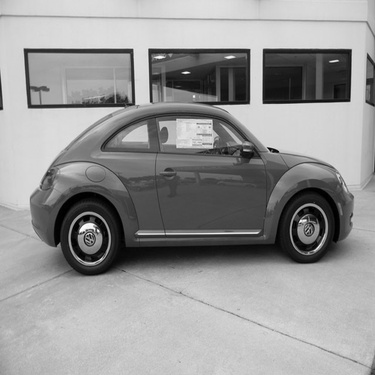car: (24, 85, 359, 280)
